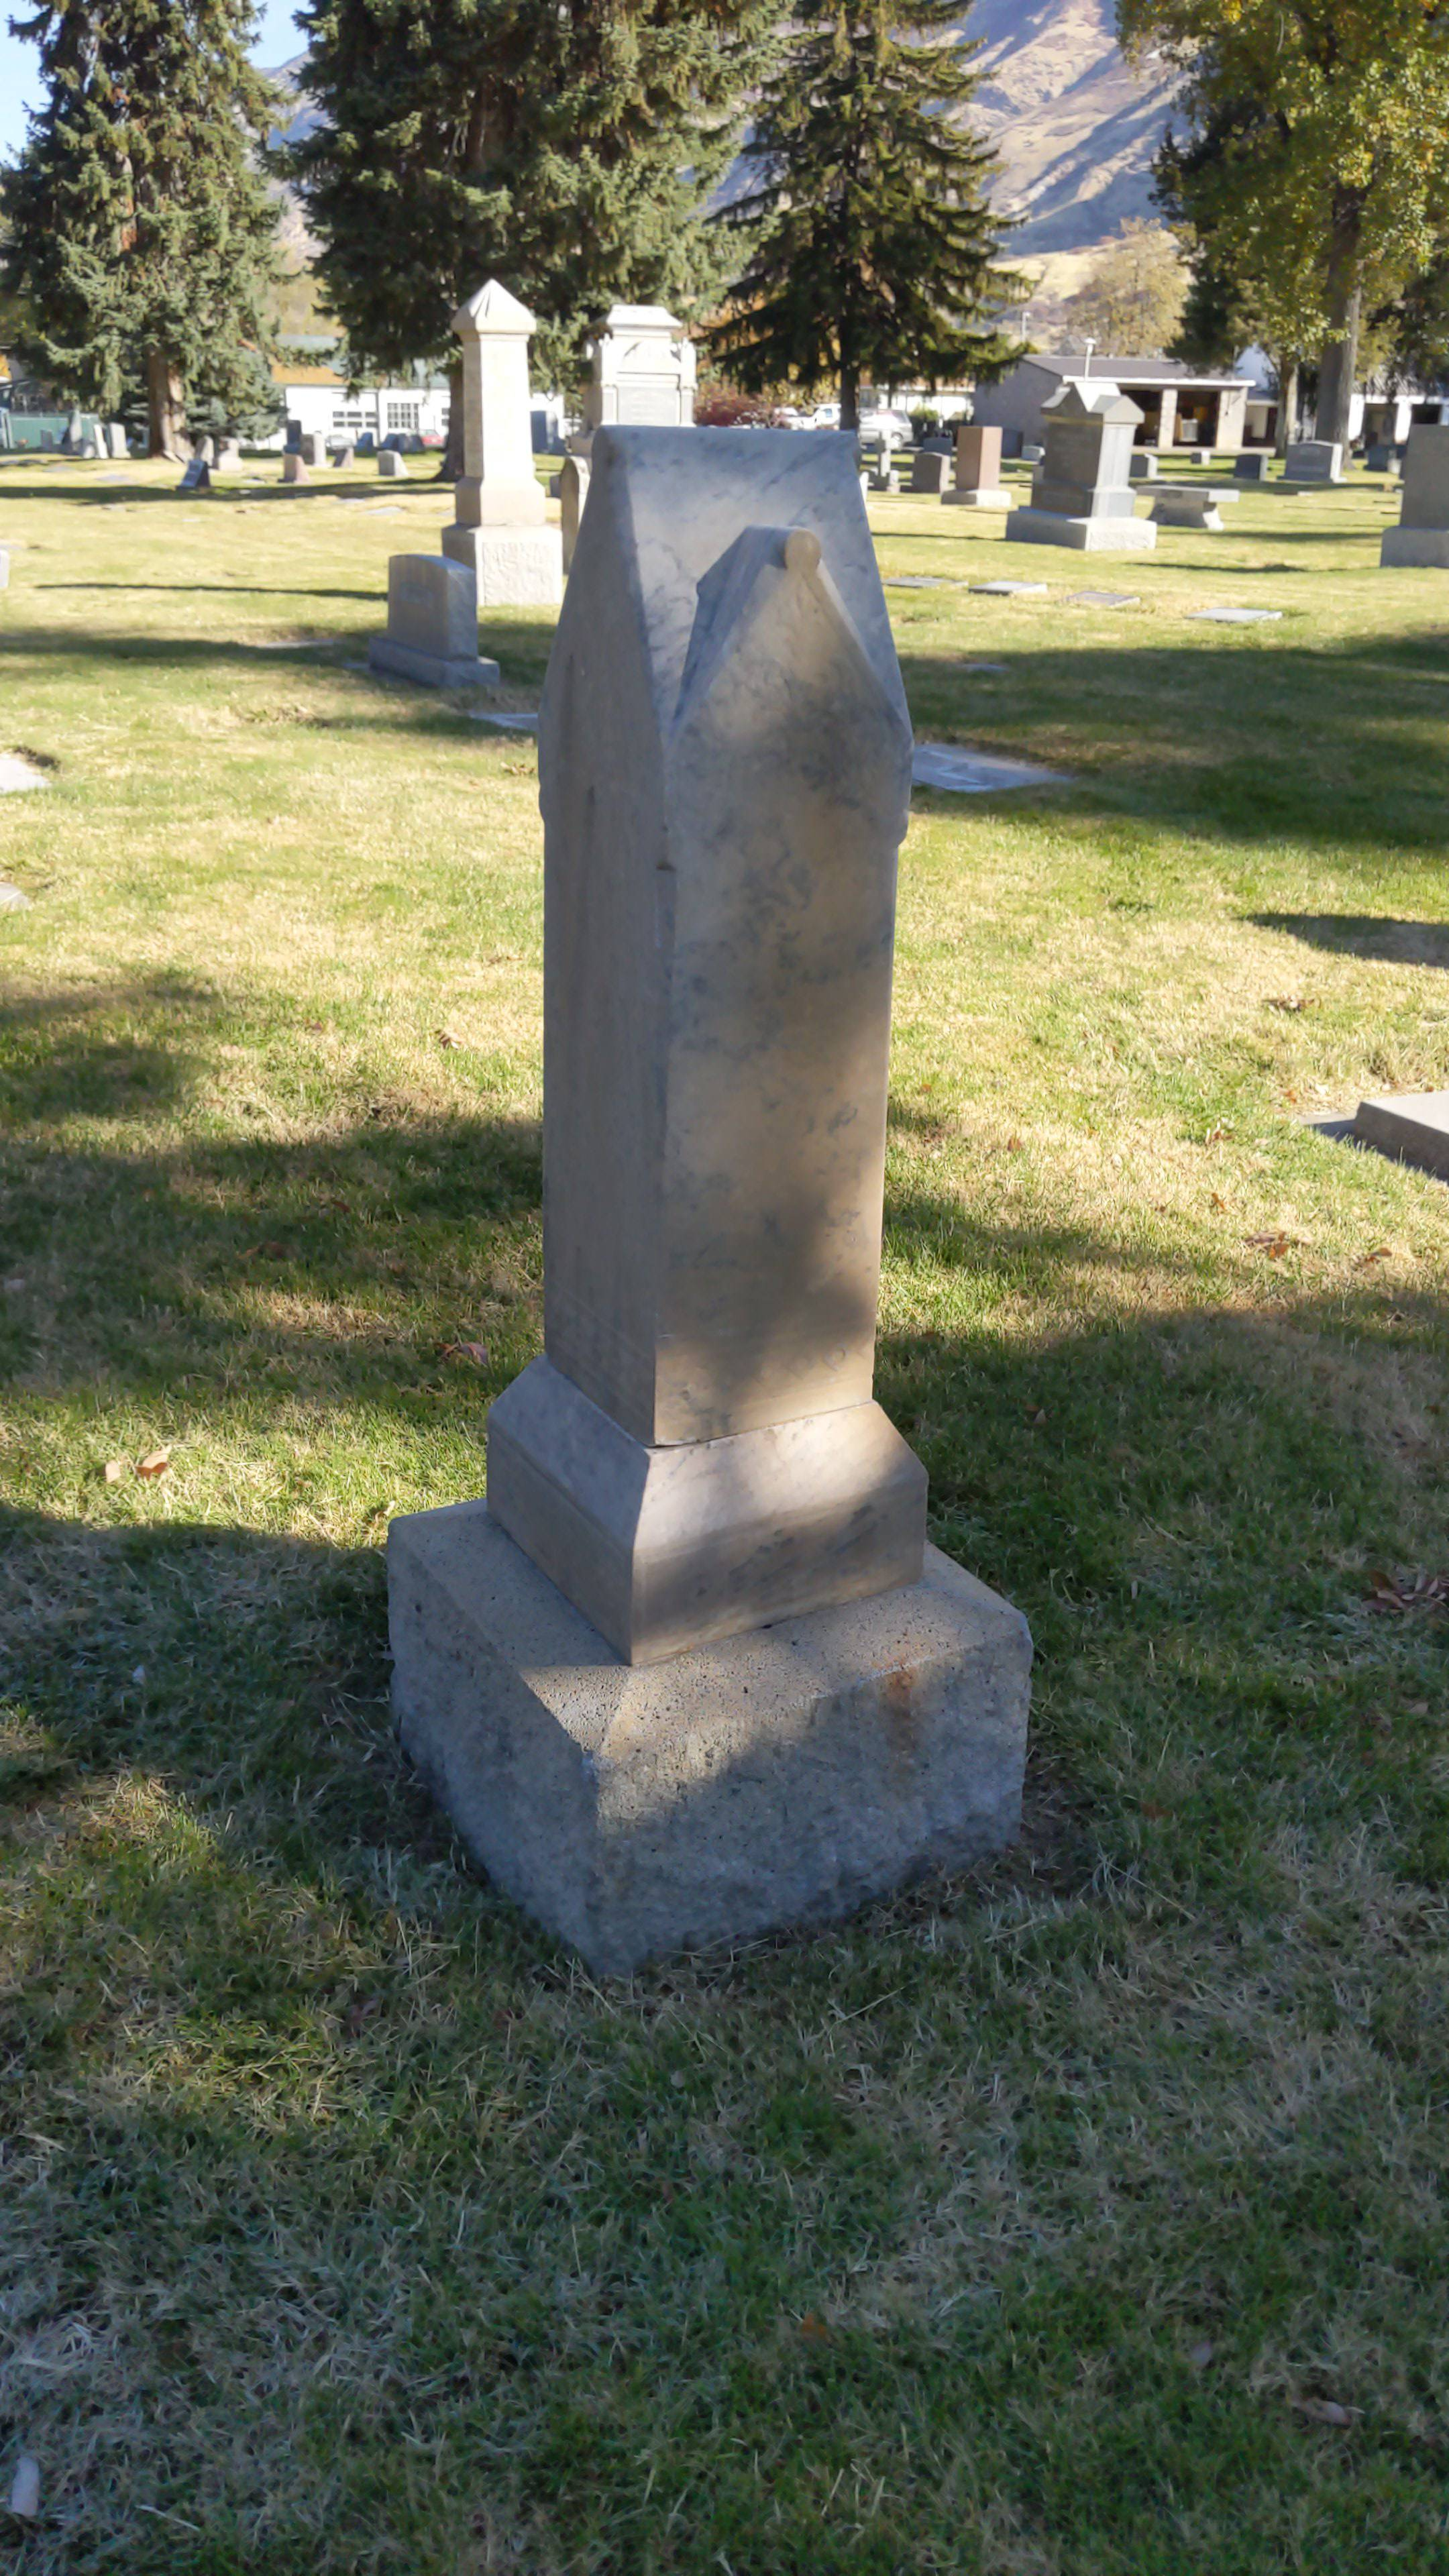obelisk: (487, 423, 924, 1660)
